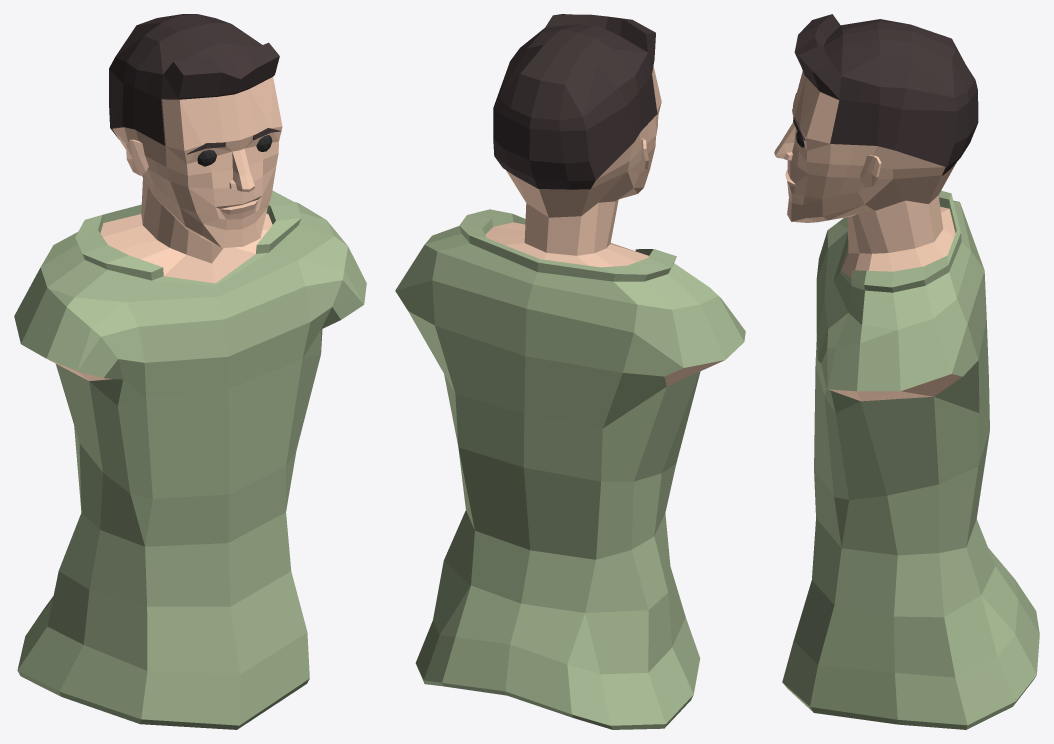
Rendered from Male_LongSleeve.glb.
The picture shows the model from 3 angles, left to right: view 1: azimuth 30°, elevation 25°; view 2: azimuth 150°, elevation 25°; view 3: azimuth 270°, elevation 25°; orthographic projection. The views are drawn at different scales.
Parts seen in each view (by area): view 1: BaseHuman; view 2: BaseHuman; view 3: BaseHuman.
Part boxes in pixels (x1,y1,x2,y2): BaseHuman: (14, 14, 366, 729); BaseHuman: (395, 14, 745, 729); BaseHuman: (774, 14, 1039, 729).
Bounding box in the file's own units: 1.29 × 2.5 × 0.9099.
